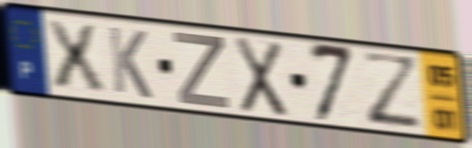7: (309, 39, 357, 125)
K: (105, 23, 155, 102)
X: (42, 18, 109, 94), (233, 33, 289, 120)
Z: (358, 48, 426, 130), (171, 29, 233, 112)
